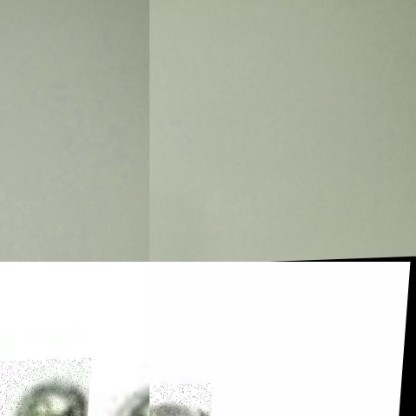ironball: (0, 360, 95, 415)
